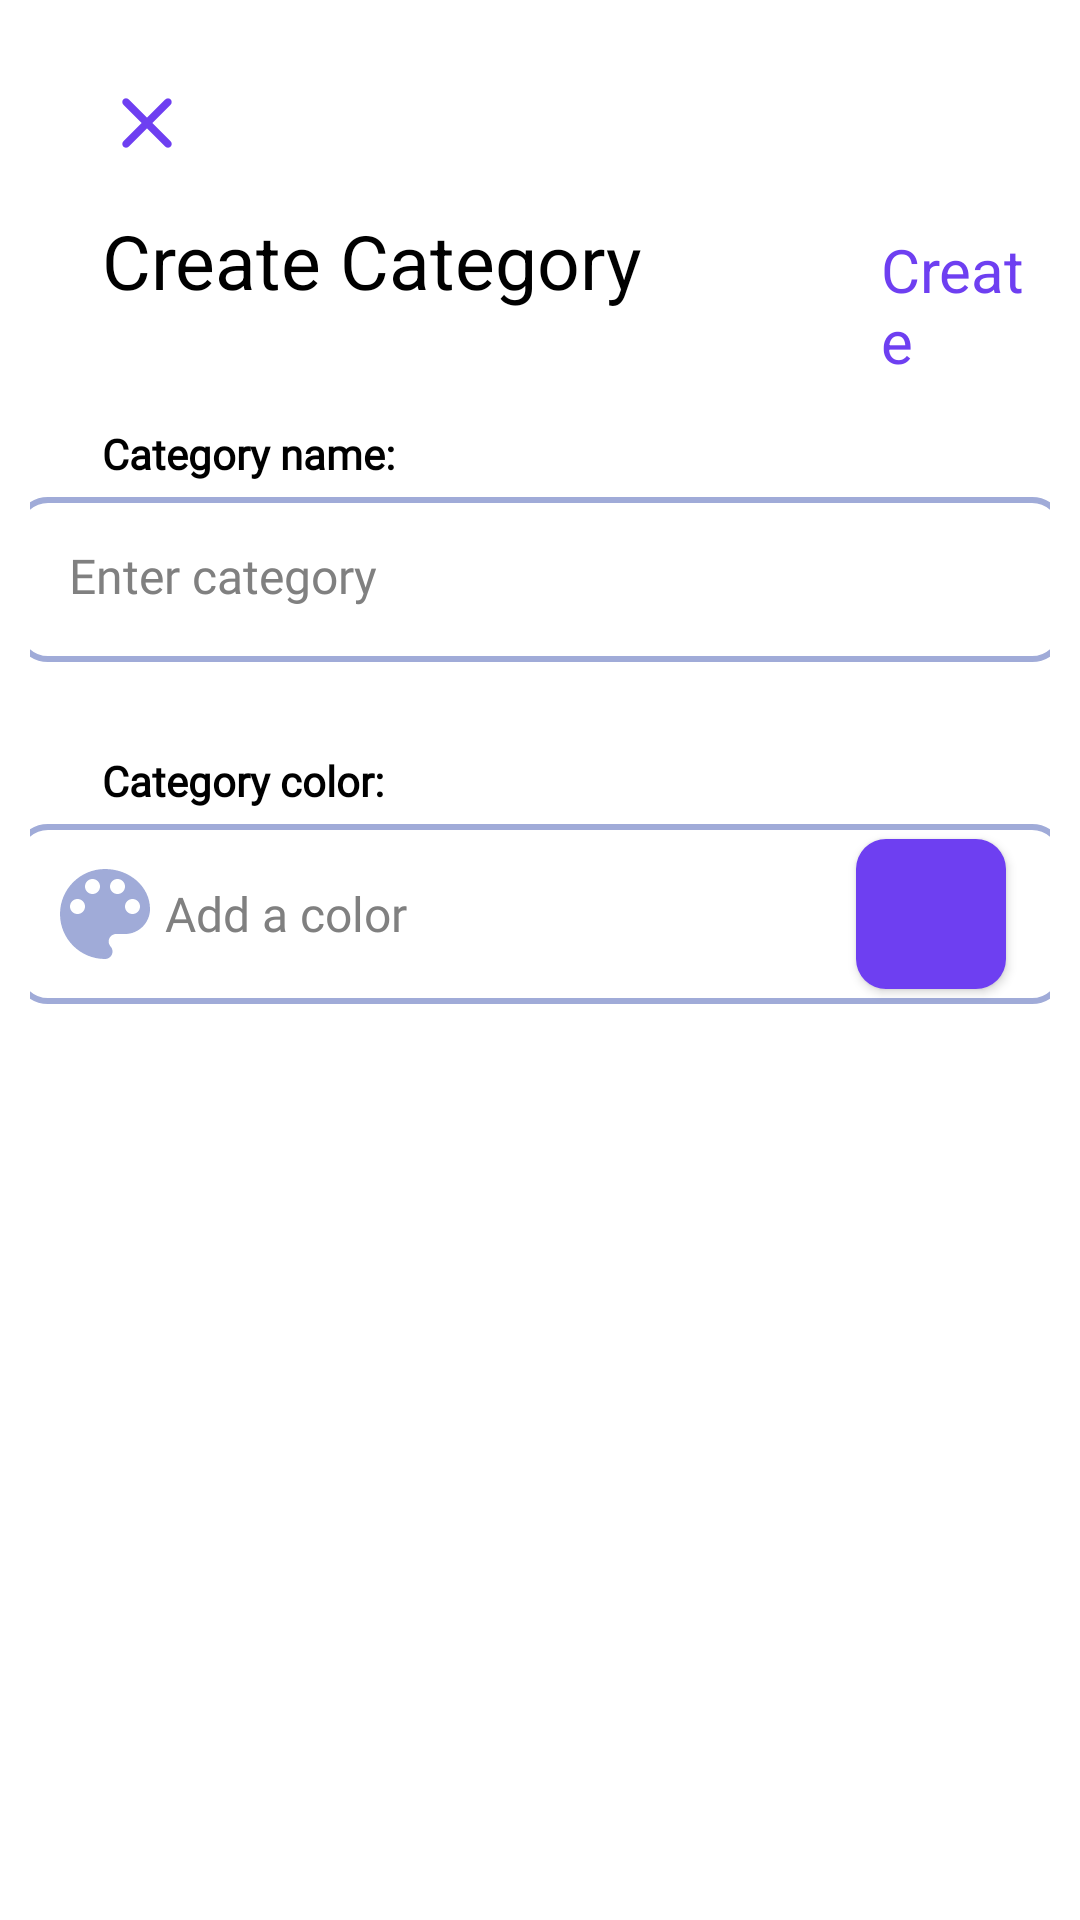

Screen size 1080px×1920px. Icon name, then its box in pixels as BBox(x1, y1, x2, y2):
clear: BBox(122, 98, 172, 148)
